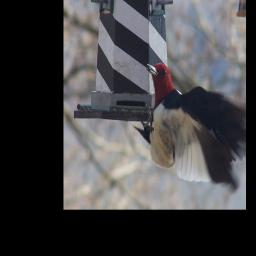Woodpecker: (136, 55, 246, 188)
